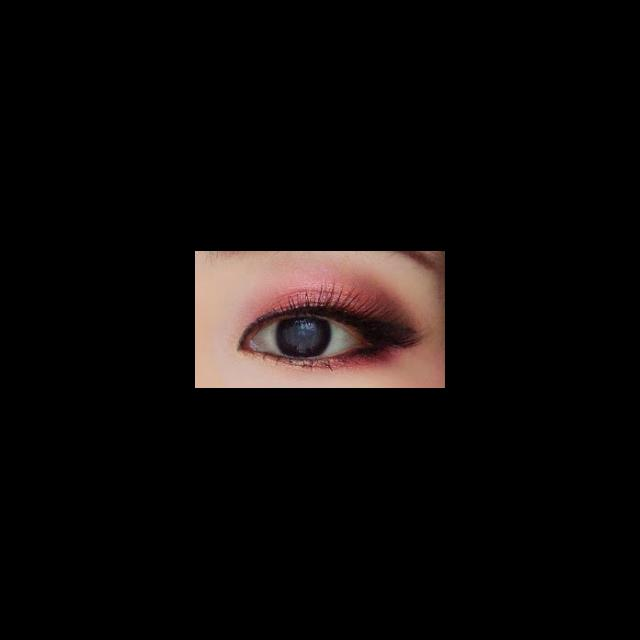eye: (249, 315, 364, 359)
iris: (276, 318, 331, 358)
